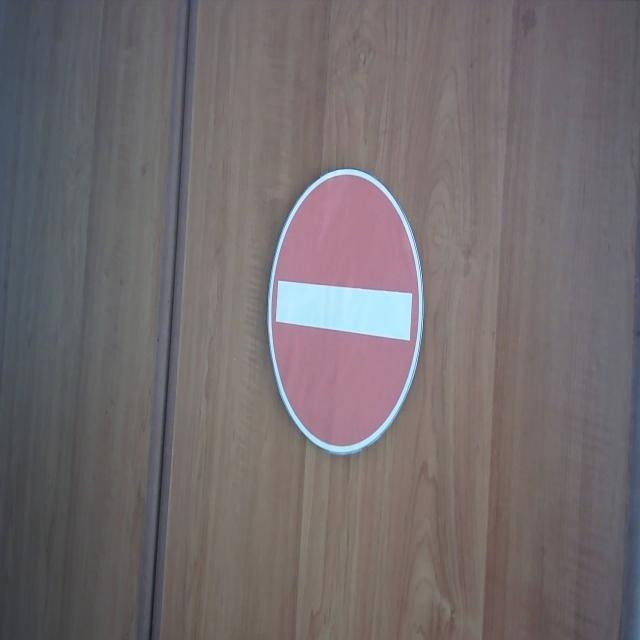no_entry: (266, 165, 426, 458)
